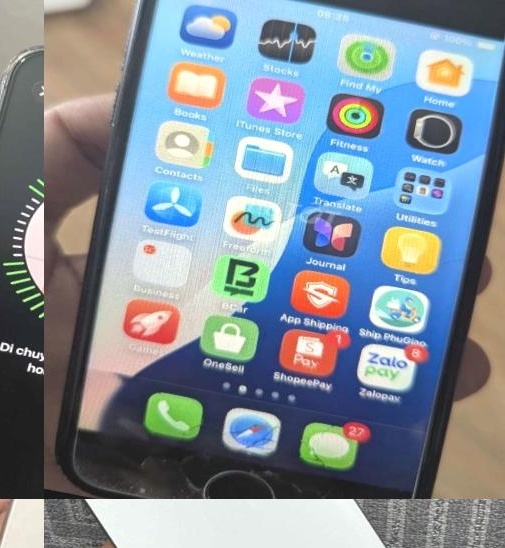scratch: (96, 442, 394, 499)
